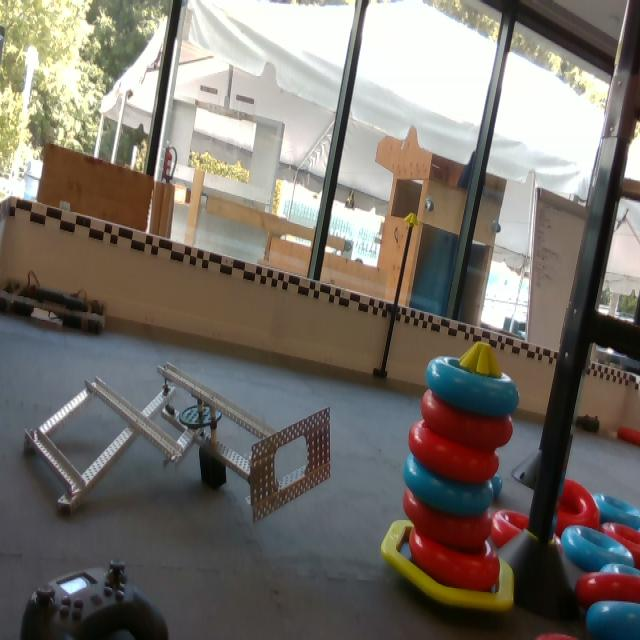Blue-Ring: (427, 355, 520, 413), (403, 458, 496, 515), (563, 529, 636, 574), (586, 604, 639, 639), (596, 494, 639, 529), (492, 474, 504, 495)
Mobile-Goal: (380, 342, 517, 611)
Red-Ring: (411, 532, 501, 590), (409, 426, 499, 479), (403, 492, 492, 543), (421, 394, 511, 444), (555, 481, 598, 531), (578, 577, 639, 607), (495, 510, 529, 543), (601, 525, 639, 554), (617, 423, 639, 447)
Yellow-Stake-Head: (459, 341, 503, 376), (404, 213, 420, 225)
